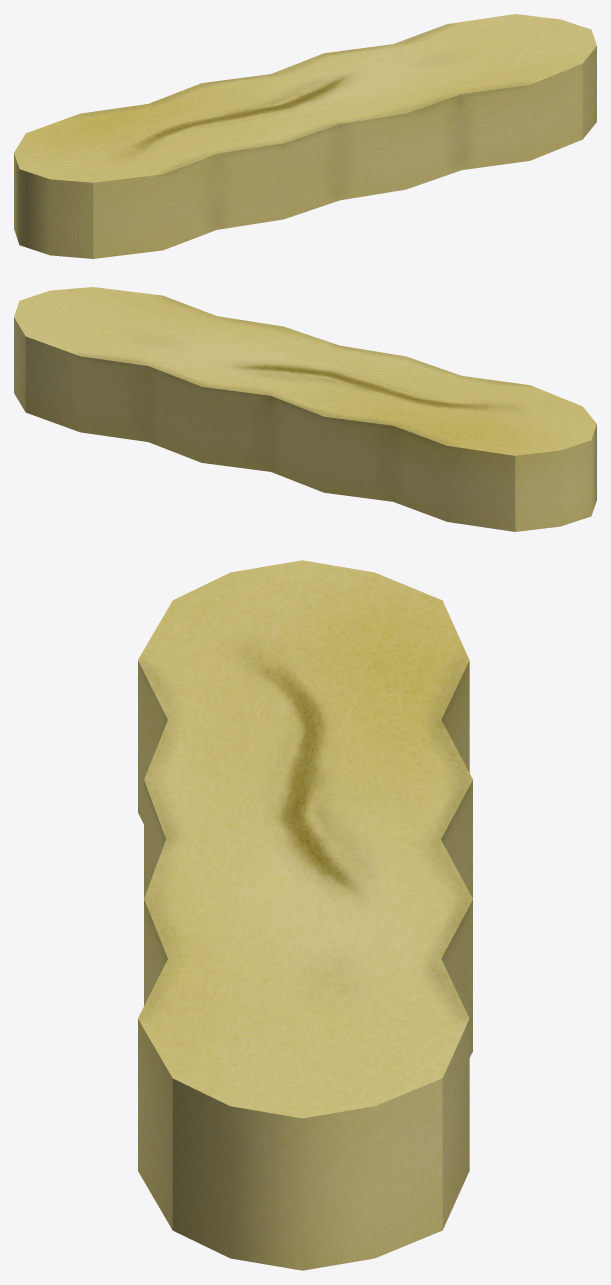
File: Enemy3.fbx
3 views of the same model, one above another, from view 1: azimuth 30°, elevation 25°; view 2: azimuth 150°, elevation 25°; view 3: azimuth 270°, elevation 25° (orthographic). The views are drawn at different scales.
Parts seen in each view (by area): view 1: pCube1; view 2: pCube1; view 3: pCube1.
Boxes of the visible parts, bbox=[...] form: pCube1: bbox=[14, 14, 596, 258]; pCube1: bbox=[14, 287, 596, 531]; pCube1: bbox=[138, 560, 472, 1270].
Bounding box in the file's own units: 234 × 29.71 × 59.31.
1 material, 1 textured.
